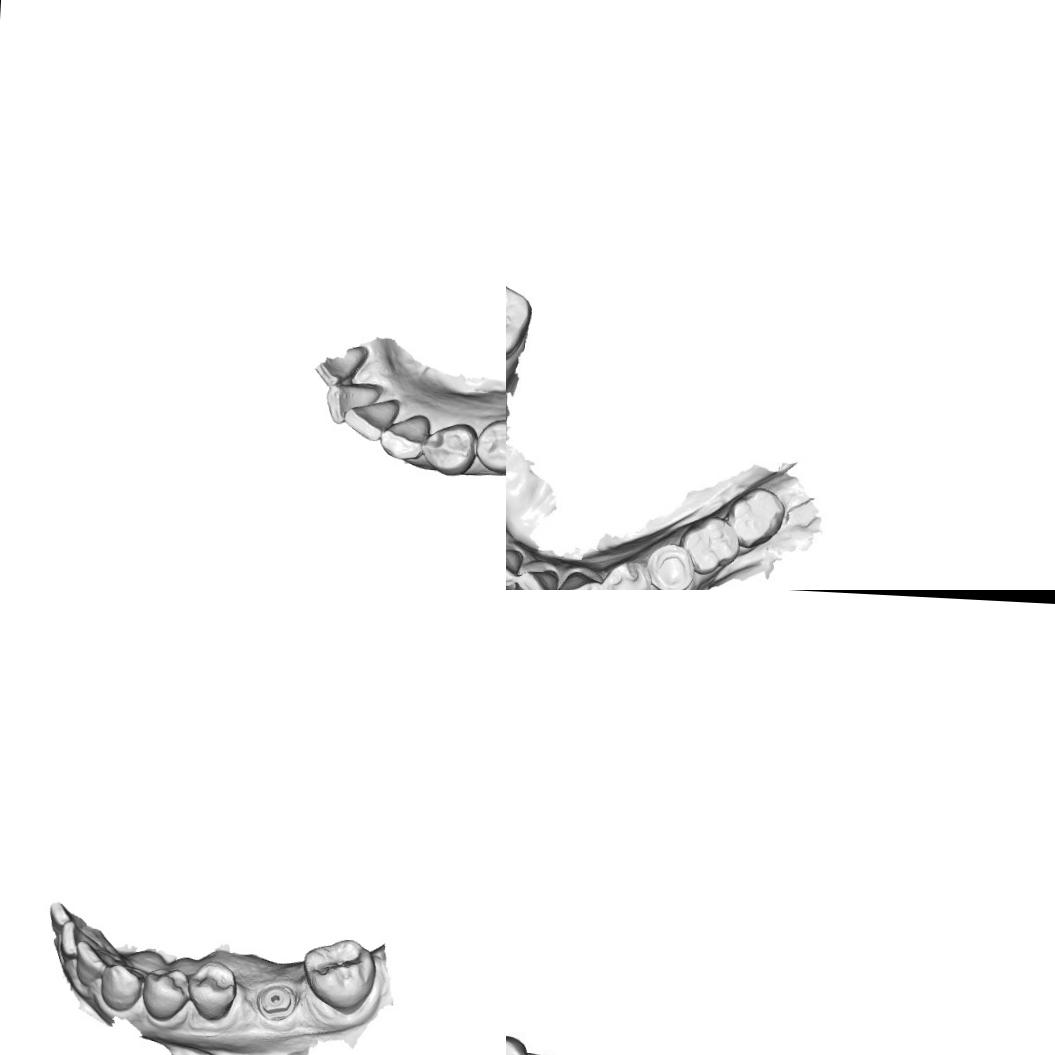canine: (379, 412, 432, 463), (97, 960, 146, 1014), (551, 565, 603, 590)
implant: (253, 978, 299, 1022)
incisor: (342, 395, 400, 446), (326, 380, 380, 428), (58, 917, 102, 961), (72, 938, 108, 990), (517, 562, 560, 590), (506, 544, 520, 588)
molar: (298, 935, 380, 1014), (727, 486, 787, 550), (678, 514, 738, 574), (506, 276, 534, 360)
premolar: (184, 956, 238, 1022), (138, 965, 192, 1025), (426, 420, 478, 476), (644, 543, 693, 590), (473, 415, 506, 474), (600, 559, 652, 590)
